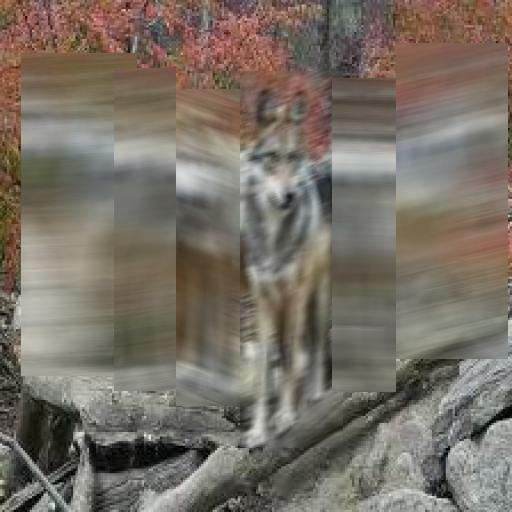wolf: (240, 71, 343, 447), (21, 53, 137, 376), (396, 43, 508, 359), (176, 89, 251, 406), (332, 78, 396, 392), (114, 68, 176, 391)
